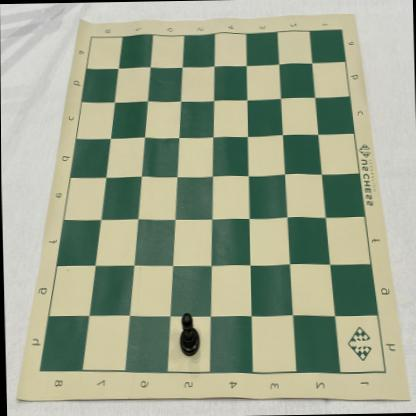black-pawn: (177, 312, 200, 357)
